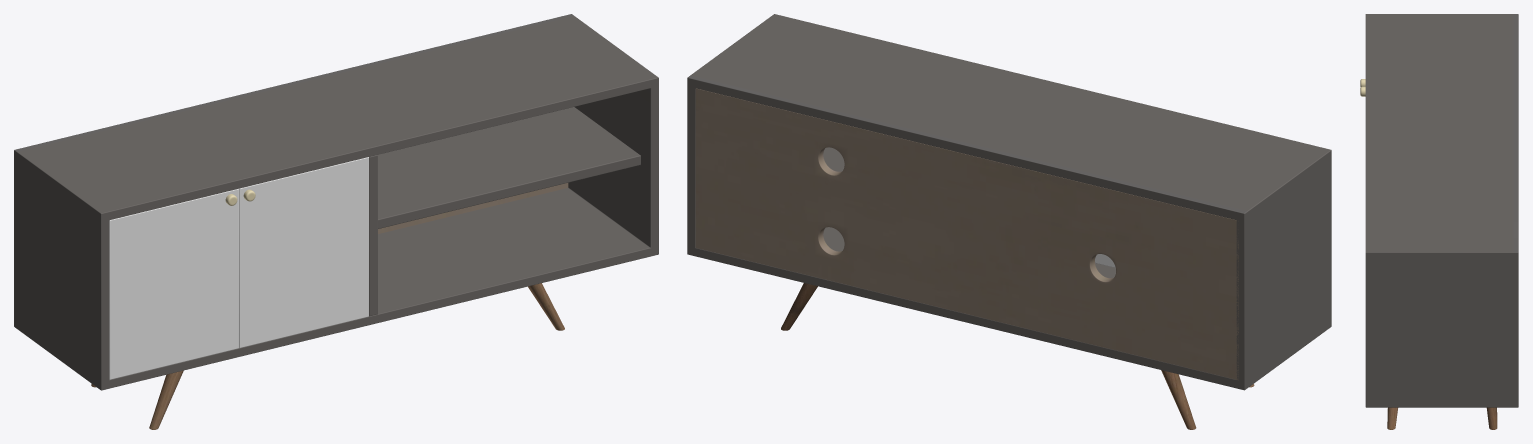
The model's file is tv_unit_wood.glb.
The picture shows the model from 3 angles, left to right: view 1: azimuth 30°, elevation 25°; view 2: azimuth 150°, elevation 25°; view 3: azimuth 270°, elevation 25°; orthographic projection. The views are drawn at different scales.
Parts seen in each view (by area): view 1: ASSET_ASSET_MAT_MR_0; view 2: ASSET_ASSET_MAT_MR_0; view 3: ASSET_ASSET_MAT_MR_0.
Boxes of the visible parts, x1=… form: ASSET_ASSET_MAT_MR_0: x1=14, y1=14, x2=658, y2=429; ASSET_ASSET_MAT_MR_0: x1=687, y1=14, x2=1331, y2=429; ASSET_ASSET_MAT_MR_0: x1=1360, y1=14, x2=1518, y2=429.
Size of the model in its own units: 1.25 by 0.5175 by 0.3499.
Materials: 1 (1 with a texture image).
